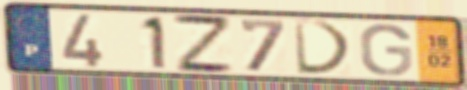1: (138, 14, 169, 71)
4: (60, 11, 107, 69)
7: (237, 17, 289, 75)
D: (291, 18, 356, 77)
G: (357, 22, 415, 78)
Z: (170, 12, 238, 75)
